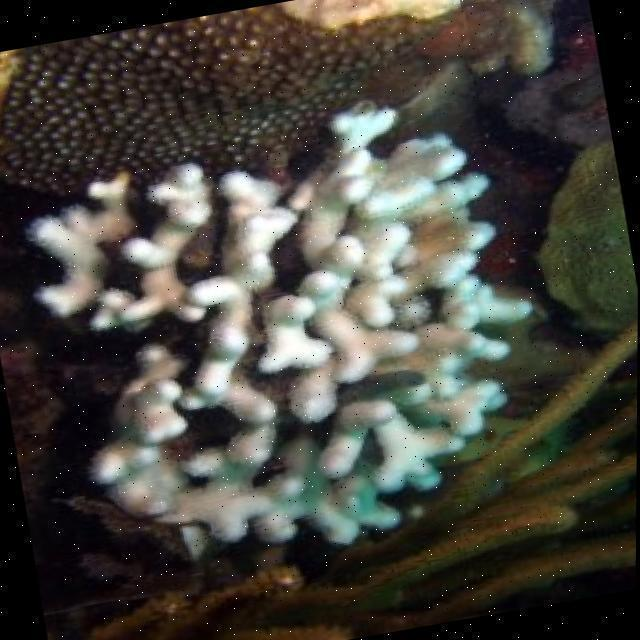Bleached Coral: (50, 112, 535, 547)
